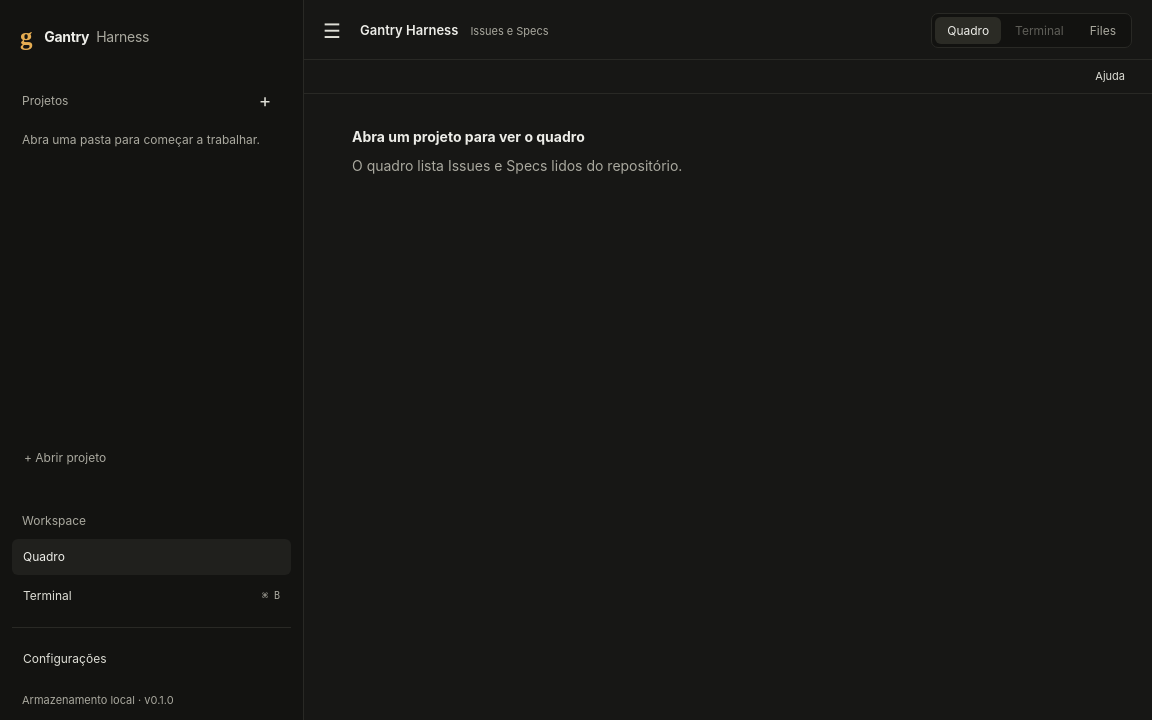
shows an empty Files tab until a project is open
Click the button with test id "open-files-btn": (1103, 30) [1078, 17, 1128, 44]
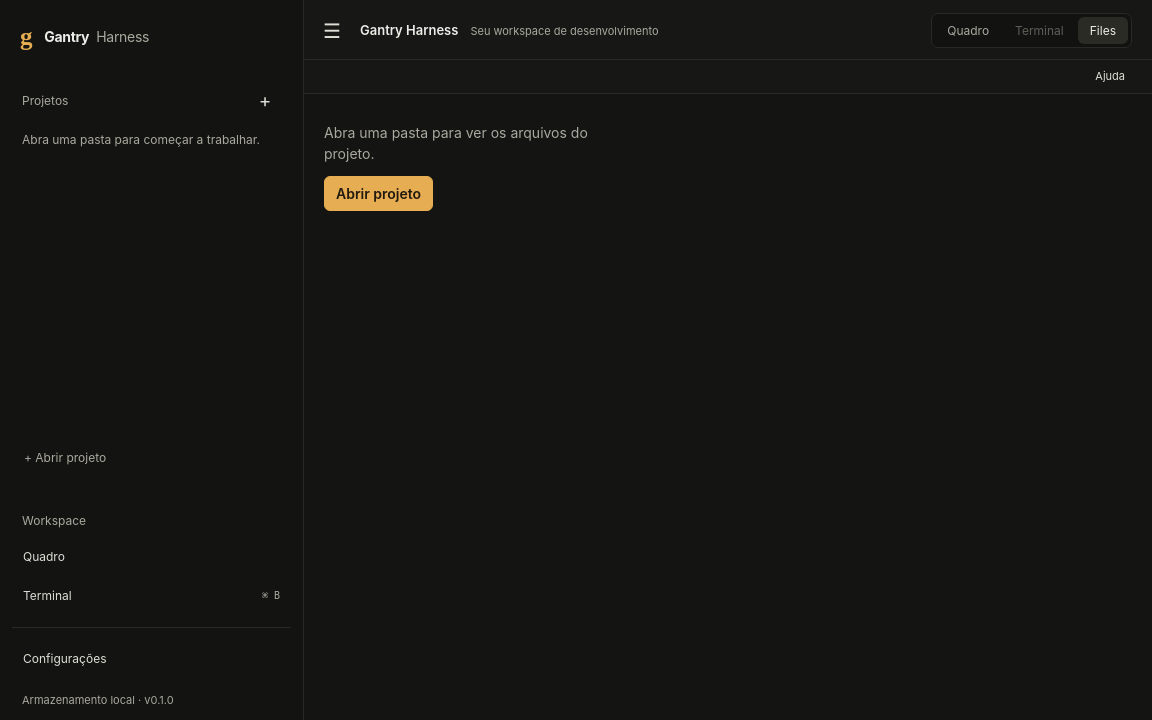
Expected: the text "Abra uma pasta para ver os arquivos do projeto." is shown, [324, 124, 588, 162]
